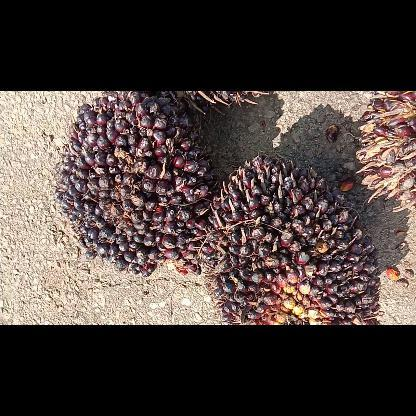TBS mentah: (54, 90, 218, 276), (210, 154, 378, 324), (356, 90, 414, 212)
